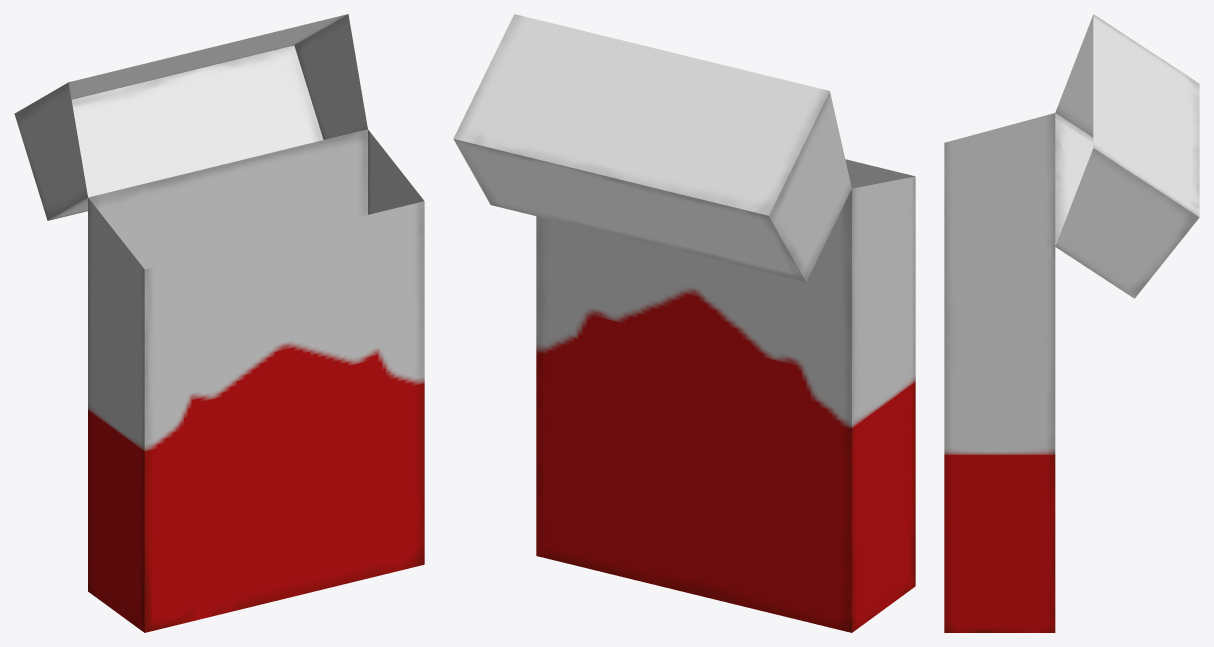
File: CigaretteBox_2.fbx
The picture shows the model from 3 angles, left to right: view 1: azimuth 30°, elevation 25°; view 2: azimuth 150°, elevation 25°; view 3: azimuth 270°, elevation 25°; orthographic projection. The views are drawn at different scales.
Visible parts, largest first — view 1: CigaretteBox_2; view 2: CigaretteBox_2; view 3: CigaretteBox_2.
Part boxes in pixels (x1,y1,x2,y2): CigaretteBox_2: (14, 14, 424, 632); CigaretteBox_2: (453, 14, 915, 632); CigaretteBox_2: (944, 14, 1199, 632).
Bounding box in the file's own units: 0.0508 × 0.0859 × 0.0409.
